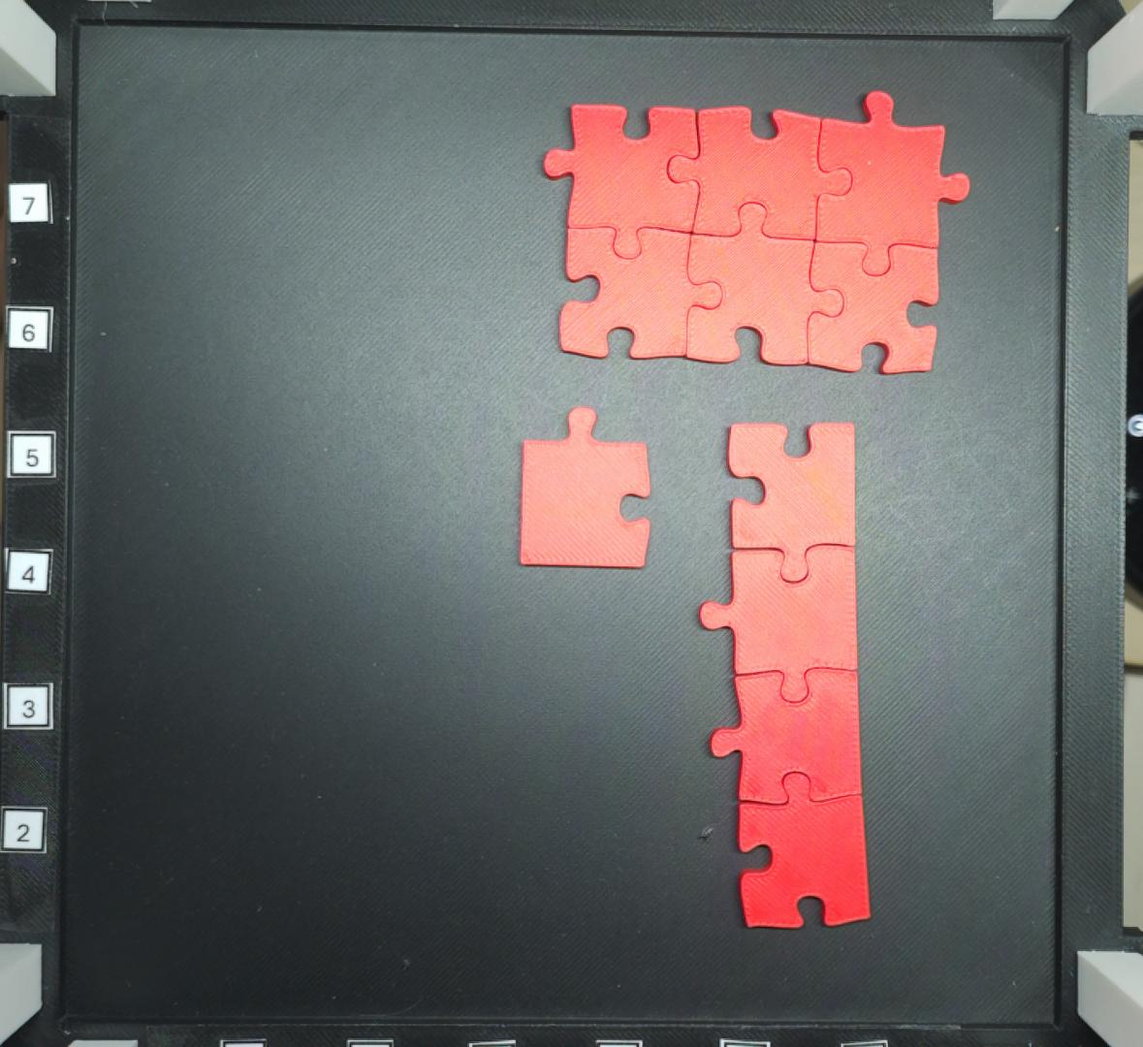p_1: (517, 406, 653, 569)
p_4: (700, 423, 872, 931)
p_m: (544, 92, 971, 375)
